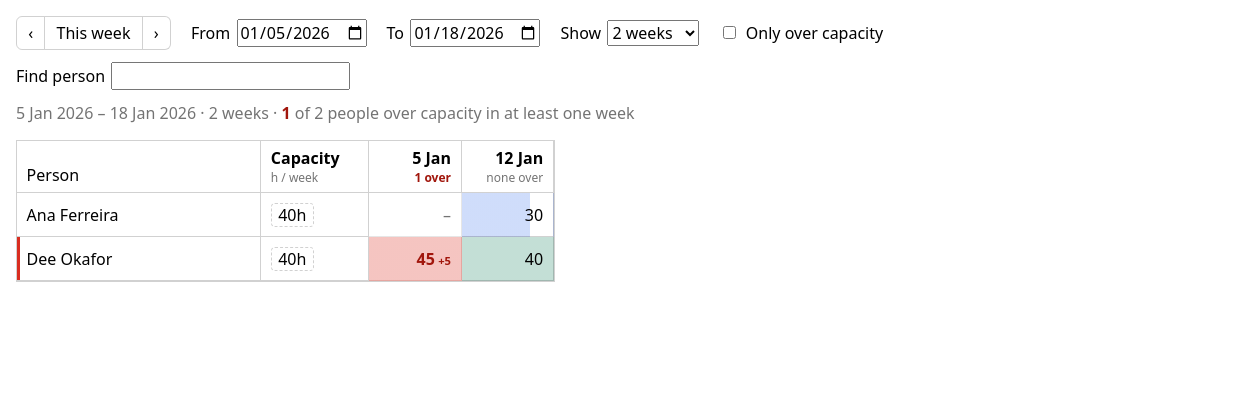
Test: what a failed save says › ends the save with a message if something unexpected throws
Expected: the column heading "Dee Okafor" is shown, [17,237,261,281]
Click the button named "Weekly hours for Dee Okafor".
click(292, 259)  # box [271,247,314,271]
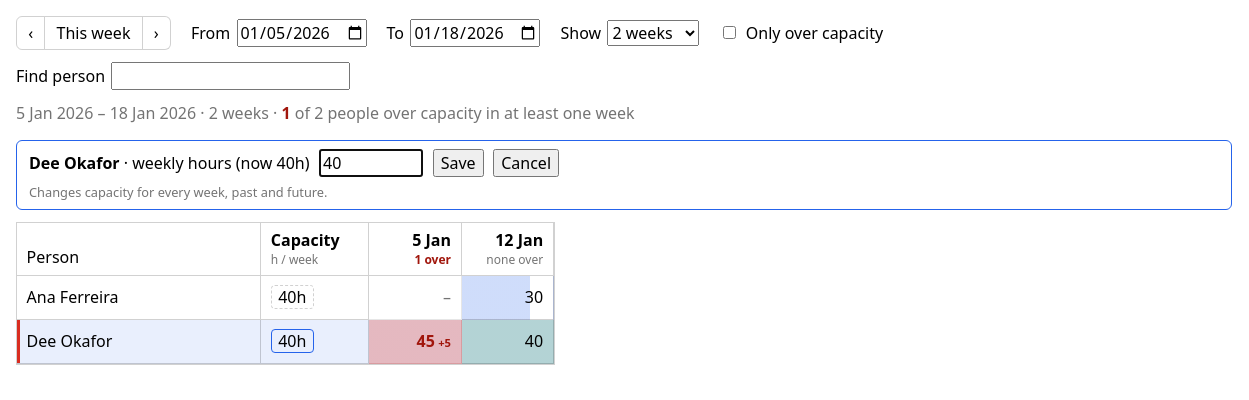
Replace the text in the field named "Weekly hours for Dee Okafor" with "50" at (371, 163), box [319,149,423,177]
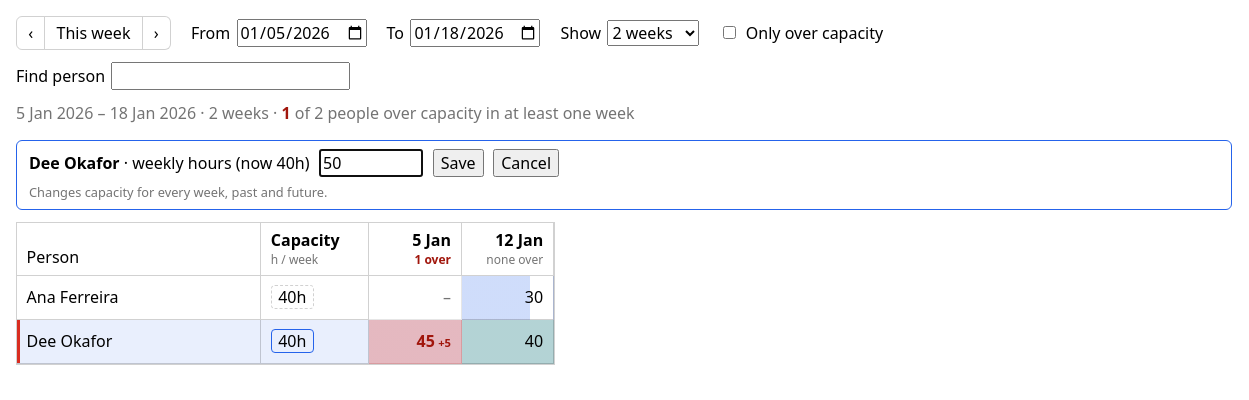
Submit the form named "Weekly hours for Dee Okafor", box [16,140,1232,210]
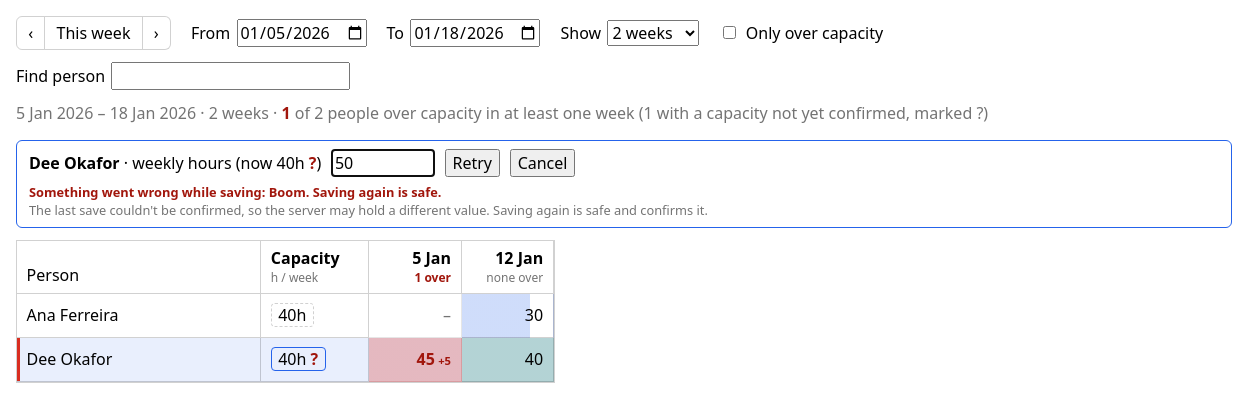
Now the button "Cancel" is enabled, box [510,149,575,177]
Now the message reads "Something went wrong while saving: Boom. Saving again is safe.", box [29,183,442,201]
Now the button "Retry" is shown, box [444,149,500,177]
